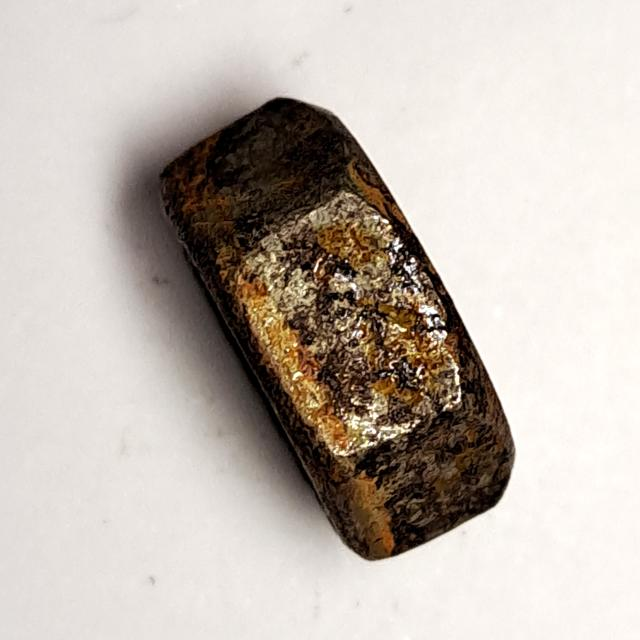Side_Rust: (145, 87, 531, 573)
